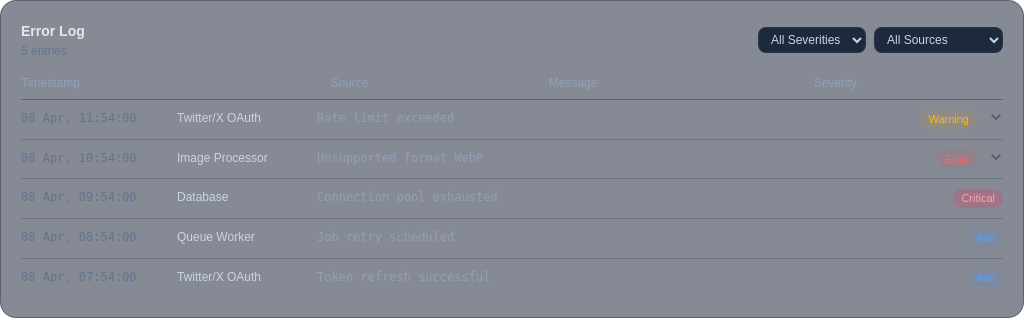
Test case: ErrorLog › filters by severity
Select "Error" in the dropdown named "Filter by severity" at (812, 40), box [758,27,866,53]
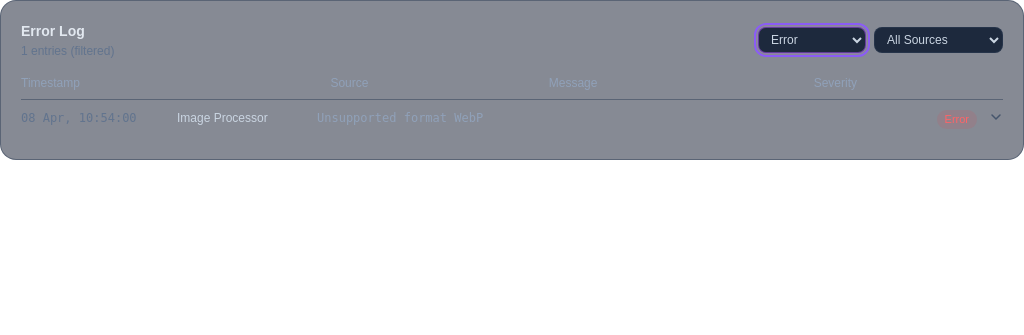
Expected: the button "Rate limit exceeded" is gone
Expected: the button "Connection pool exhausted" is gone
Expected: the button "Job retry scheduled" is gone
